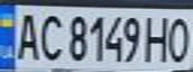1: (84, 11, 106, 62)
4: (103, 11, 124, 63)
8: (63, 11, 90, 62)
9: (121, 12, 145, 63)
A: (9, 9, 42, 61)
C: (36, 10, 66, 62)
H: (142, 12, 172, 63)
O: (163, 12, 193, 63)
